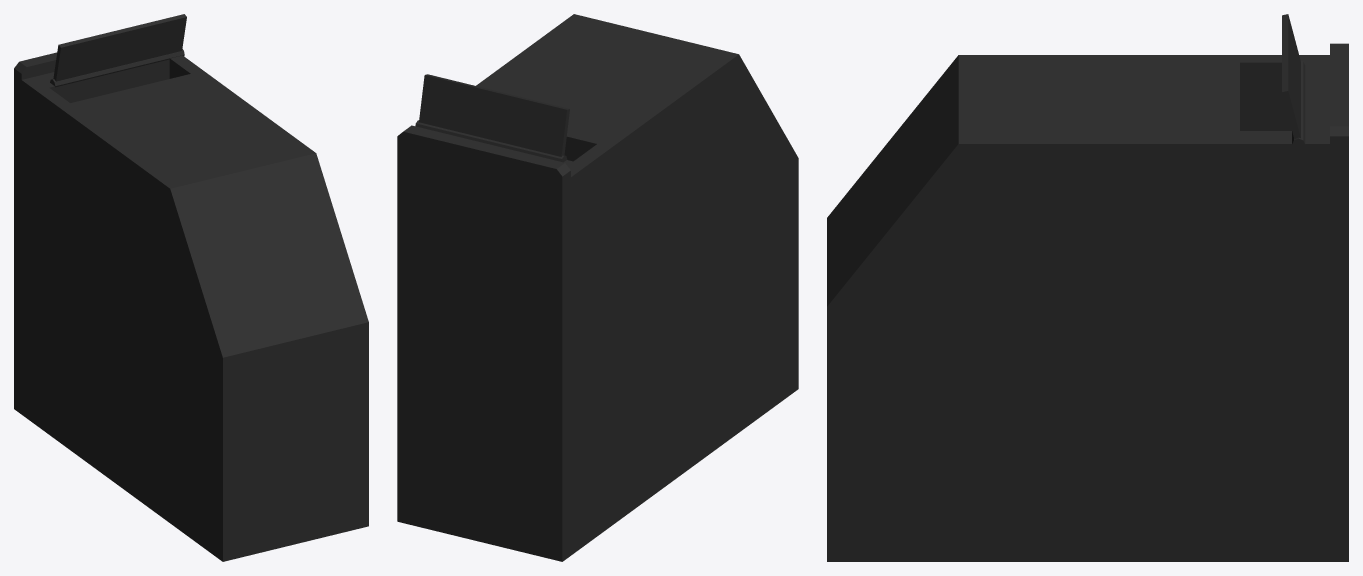
Rendered from LMG2_03_2.fbx.
3 views of the same model, side by side, from view 1: azimuth 30°, elevation 25°; view 2: azimuth 150°, elevation 25°; view 3: azimuth 270°, elevation 25° (orthographic). The views are drawn at different scales.
Parts seen in each view (by area): view 1: LMG2_03_2; view 2: LMG2_03_2; view 3: LMG2_03_2.
Part boxes in pixels (x1,y1,x2,y2): LMG2_03_2: (14,14,368,561); LMG2_03_2: (397,14,798,561); LMG2_03_2: (827,14,1348,561).
Size of the model in its own units: 0.0813 by 0.1981 by 0.1989.
